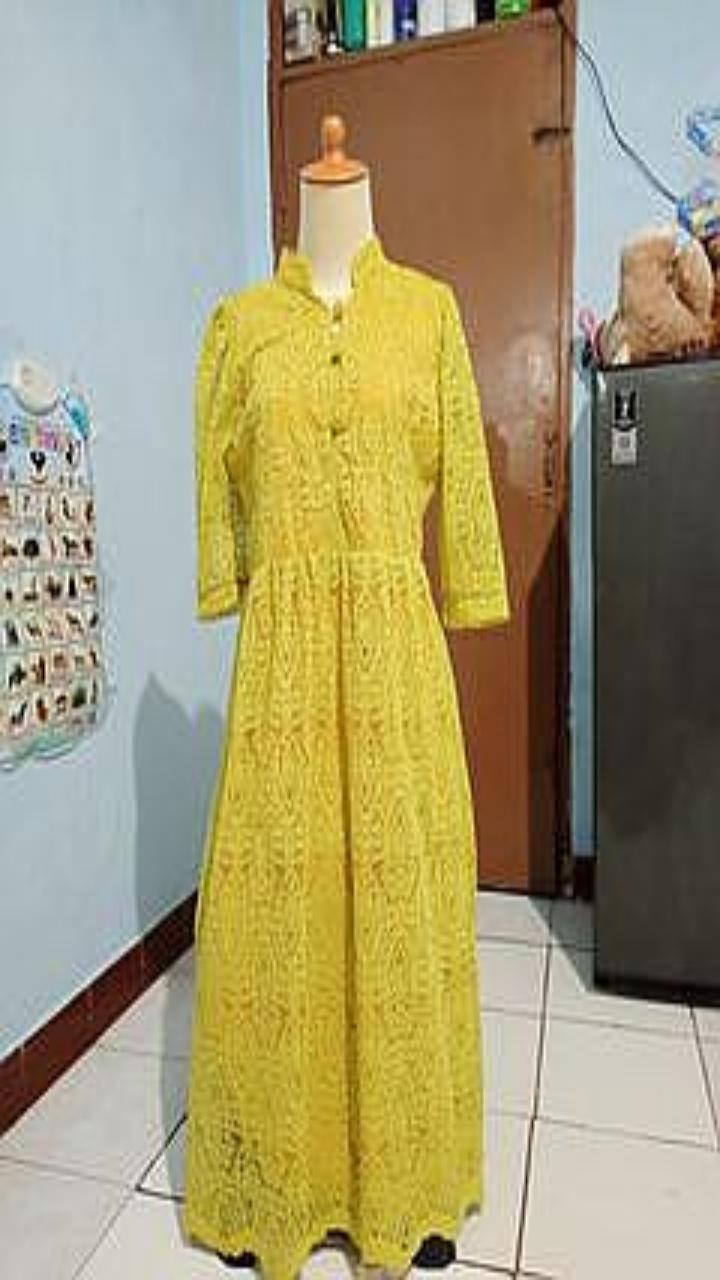Dresses: (184, 235, 509, 1279)
